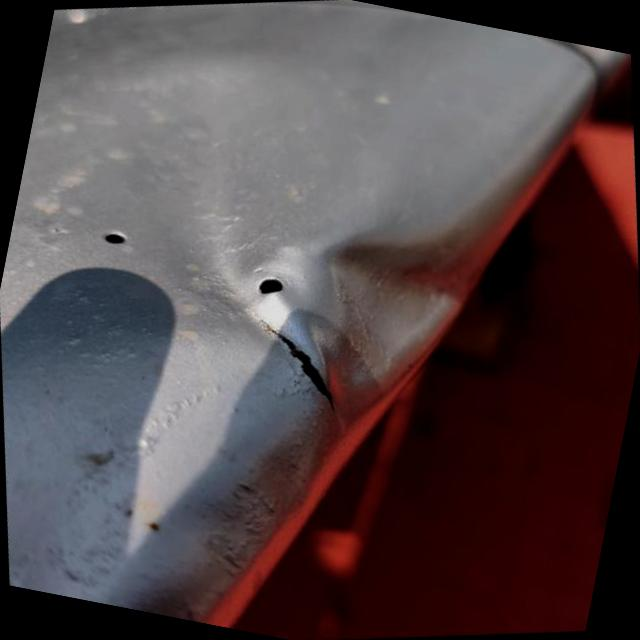Missing Fastener: (242, 250, 295, 312), (96, 218, 128, 250)
dent: (269, 175, 489, 425)
